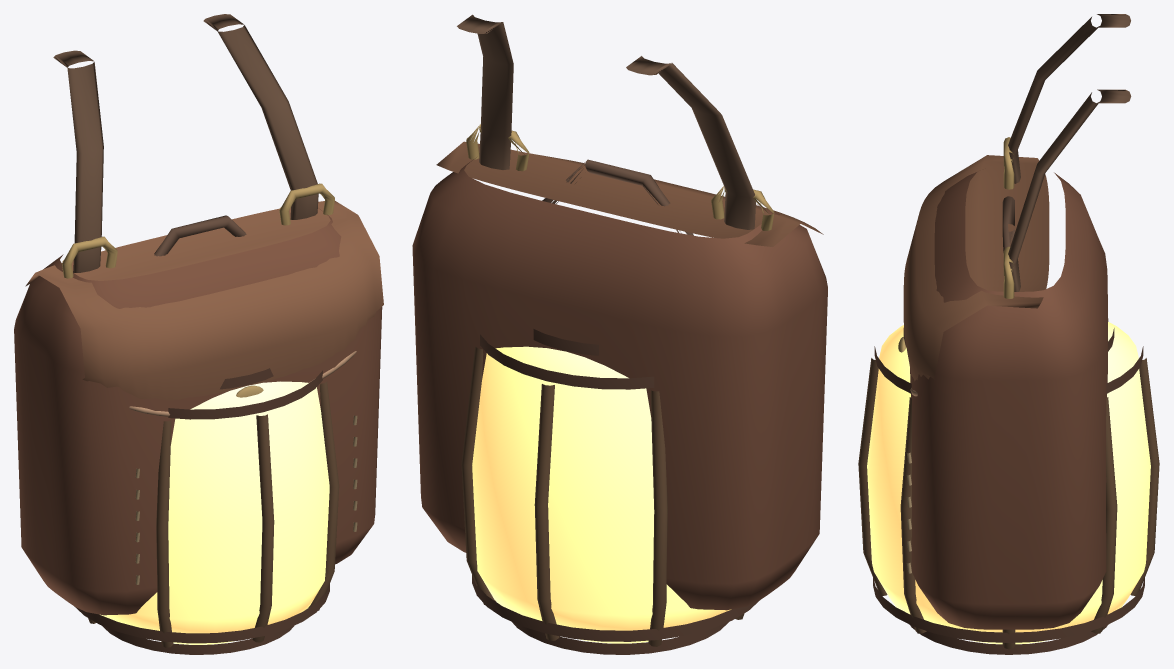
Rendered from field_gear.glb.
3 renders of one model, left to right at view 1: azimuth 30°, elevation 25°; view 2: azimuth 150°, elevation 25°; view 3: azimuth 270°, elevation 25°, orthographic. The views are drawn at different scales.
Visible parts, largest first — view 1: BeltSatchel, HandLantern; view 2: BeltSatchel, HandLantern; view 3: BeltSatchel, HandLantern.
Boxes of the visible parts, x1,y1,x2,y2 form: BeltSatchel: (14,14,383,615); HandLantern: (74,215,339,654); BeltSatchel: (412,14,827,610); HandLantern: (461,159,759,654); BeltSatchel: (898,14,1131,629); HandLantern: (858,196,1159,654).
Size of the model in its own units: 0.238 by 0.376 by 0.186.
